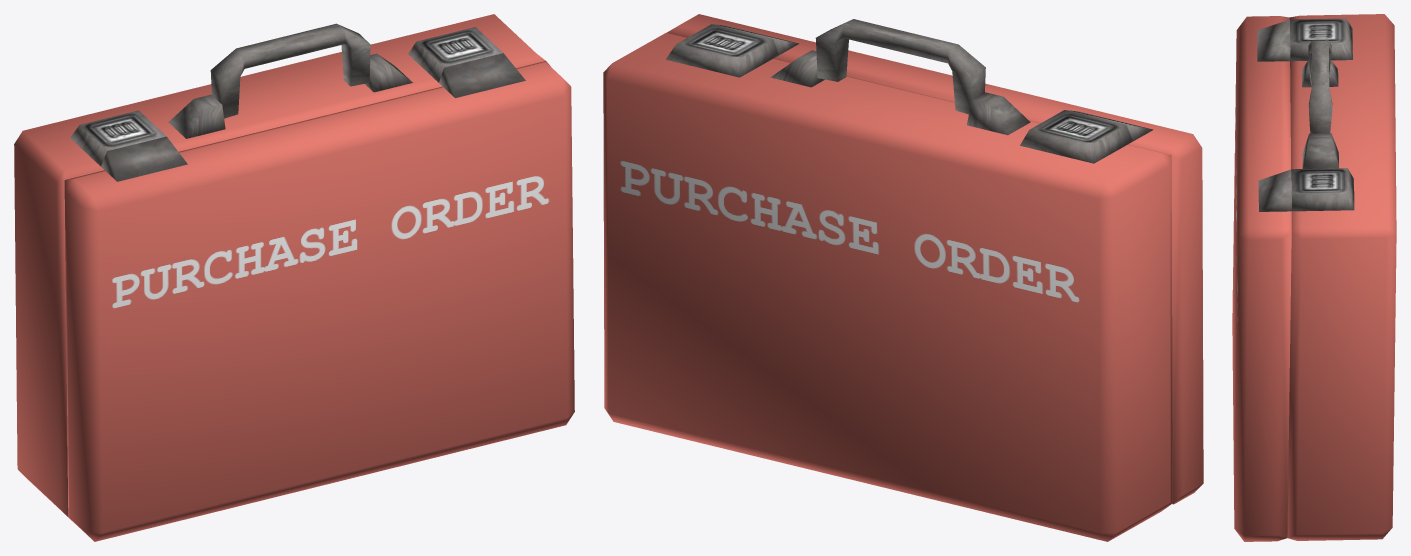
The picture shows the model from 3 angles, left to right: view 1: azimuth 30°, elevation 25°; view 2: azimuth 150°, elevation 25°; view 3: azimuth 270°, elevation 25°; orthographic projection. The views are drawn at different scales.
Parts seen in each view (by area): view 1: suitcase; view 2: suitcase; view 3: suitcase.
Part boxes in pixels (x1,y1,x2,y2): suitcase: [14, 14, 574, 541]; suitcase: [603, 14, 1203, 541]; suitcase: [1232, 14, 1396, 541].
Bounding box in the file's own units: 0.4804 × 0.38 × 0.1504.
Materials: 1 (1 with a texture image).
